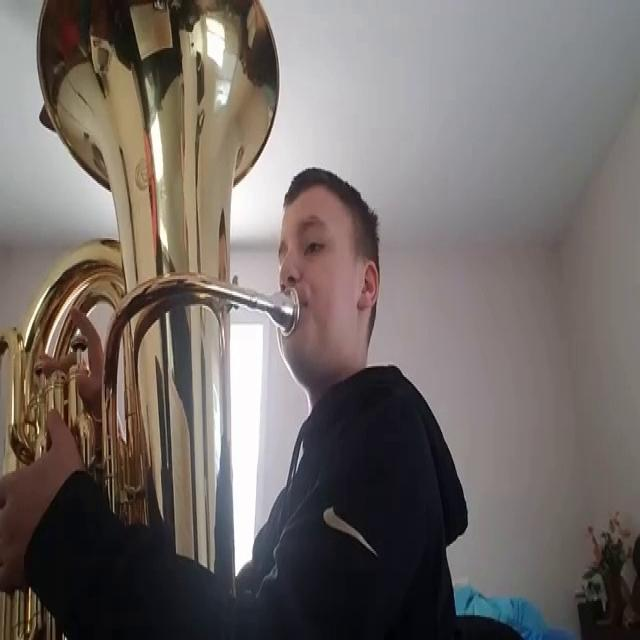Tuba: (3, 0, 286, 639)
